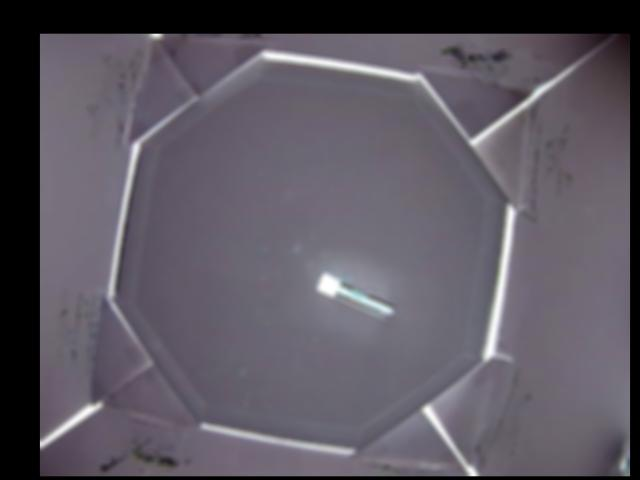Battery: (313, 271, 396, 319)
